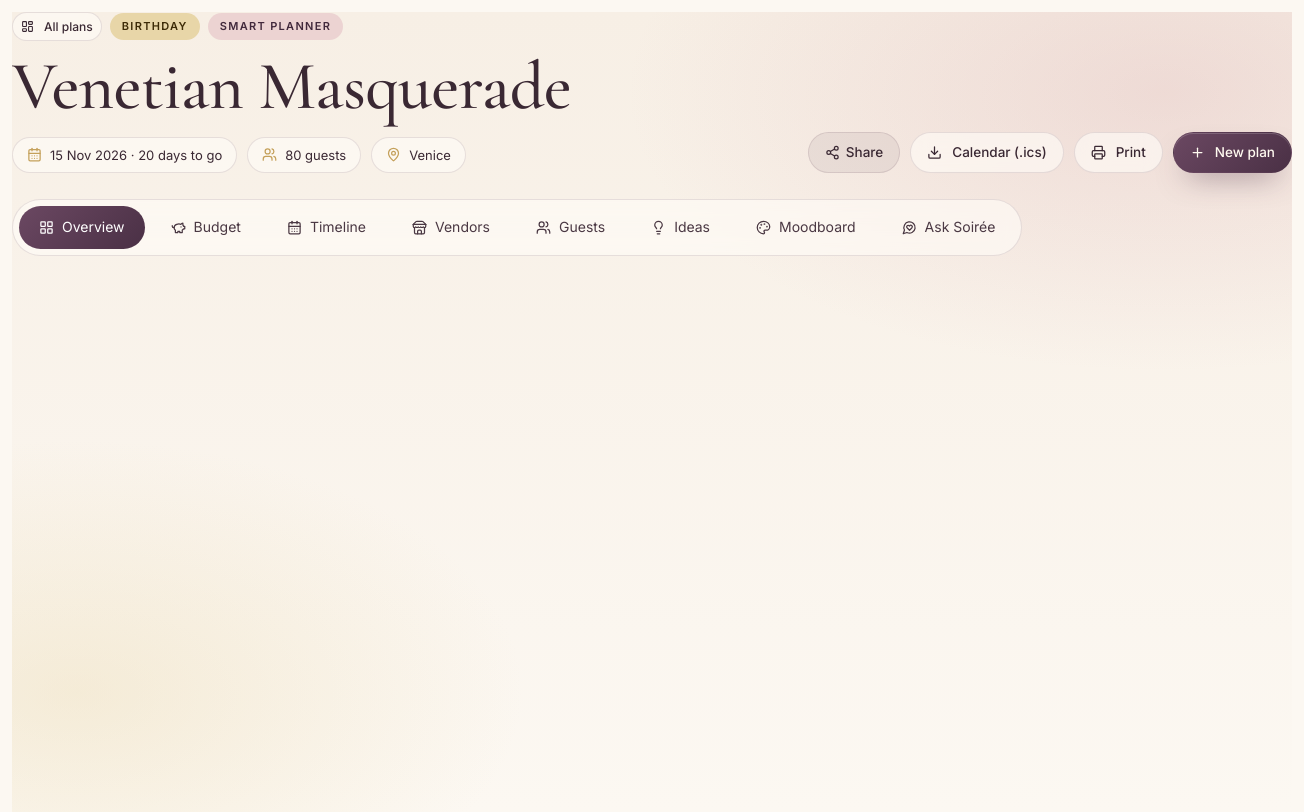
Test: PlanView Component & Subcomponents Integration Suite › switches tabs smoothly via PlanTabBar
// Switch to Timeline
Click the tab "Timeline".
click(326, 228)  # box [267,206,386,249]
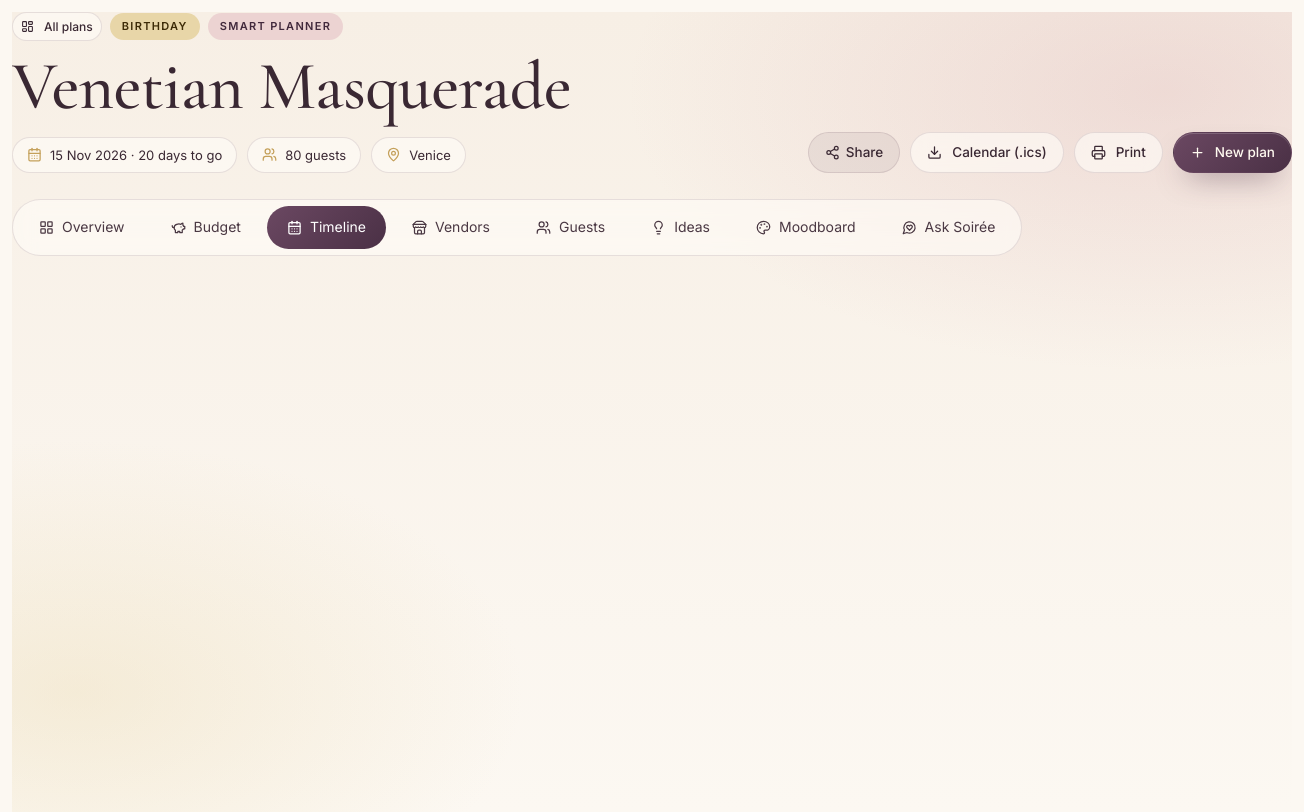
// Switch to Vendors
Click the tab "Vendors".
click(451, 228)  # box [392,206,510,249]
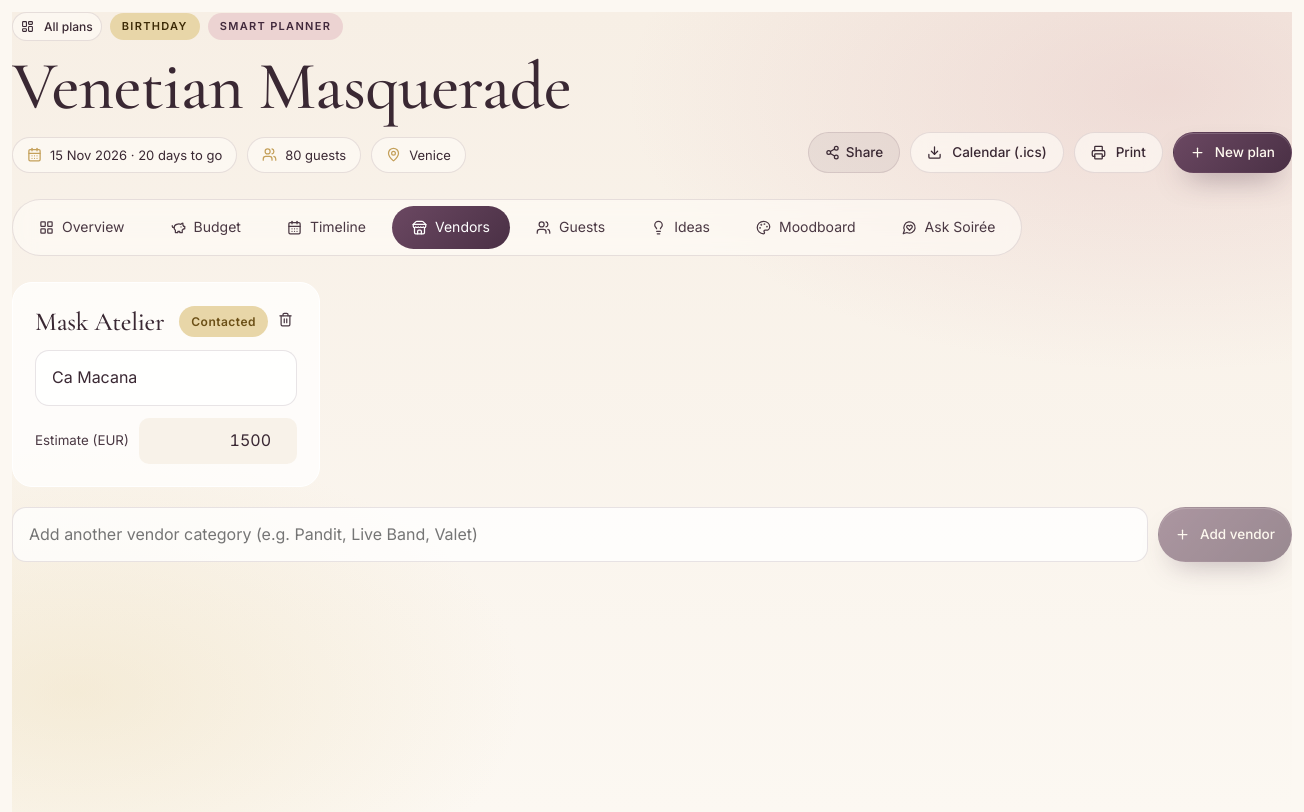
Expected: the heading "Mask Atelier" is shown, [35,308,164,335]
// Switch to Ideas
Click the tab "Ideas".
click(681, 228)  # box [631,206,730,249]
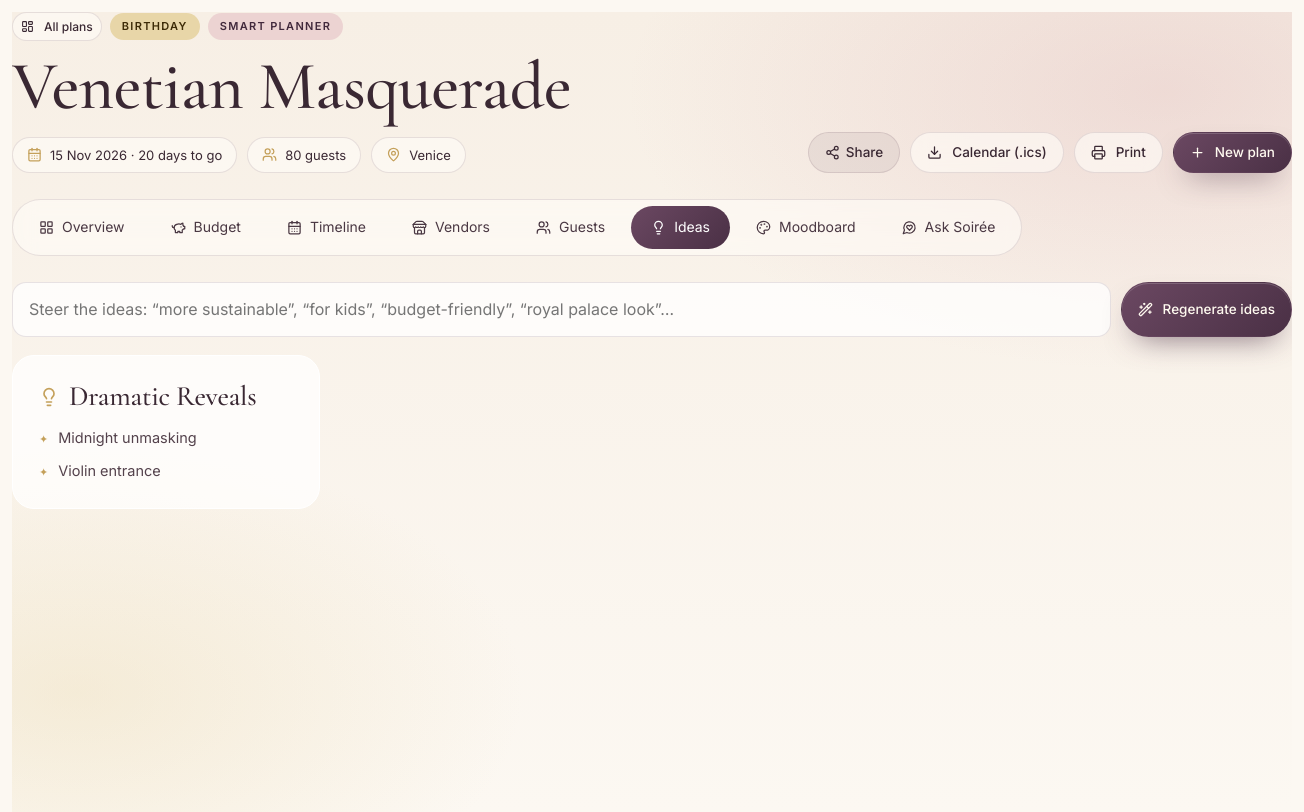
Expected: the heading "Dramatic Reveals" is shown, [39,382,293,412]
